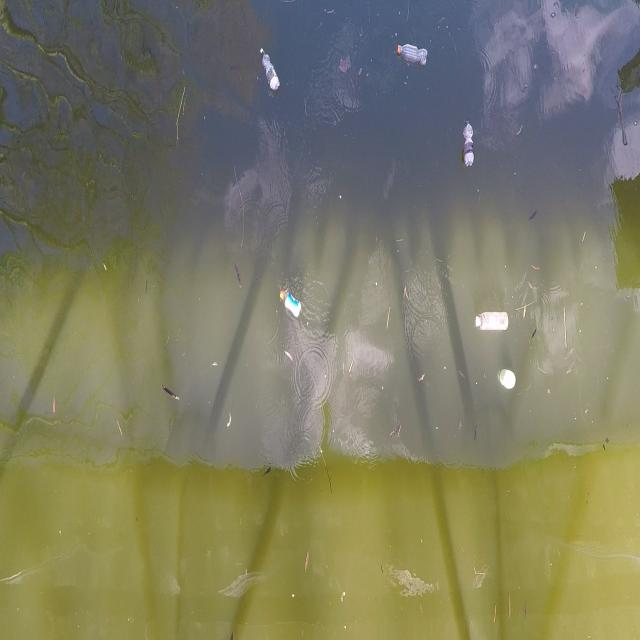Bouteille plastique: (258, 41, 283, 98), (394, 40, 430, 69), (276, 286, 306, 320), (462, 114, 478, 174), (473, 311, 512, 335)
